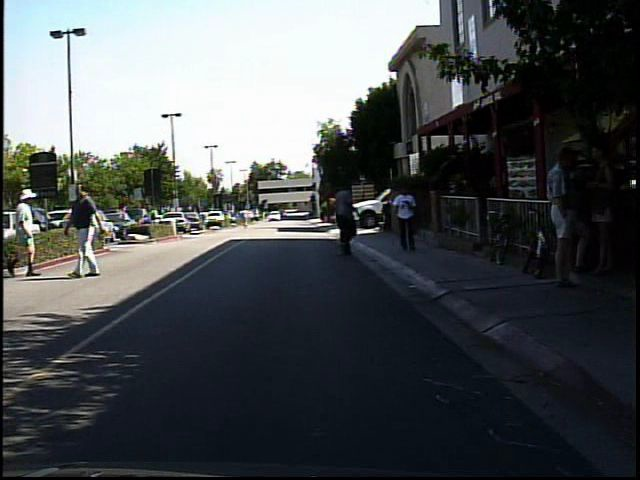person: (541, 136, 590, 292), (580, 141, 619, 283), (326, 175, 377, 263), (66, 180, 110, 279), (8, 182, 46, 279), (386, 178, 424, 255), (149, 202, 165, 235), (238, 203, 254, 228)
